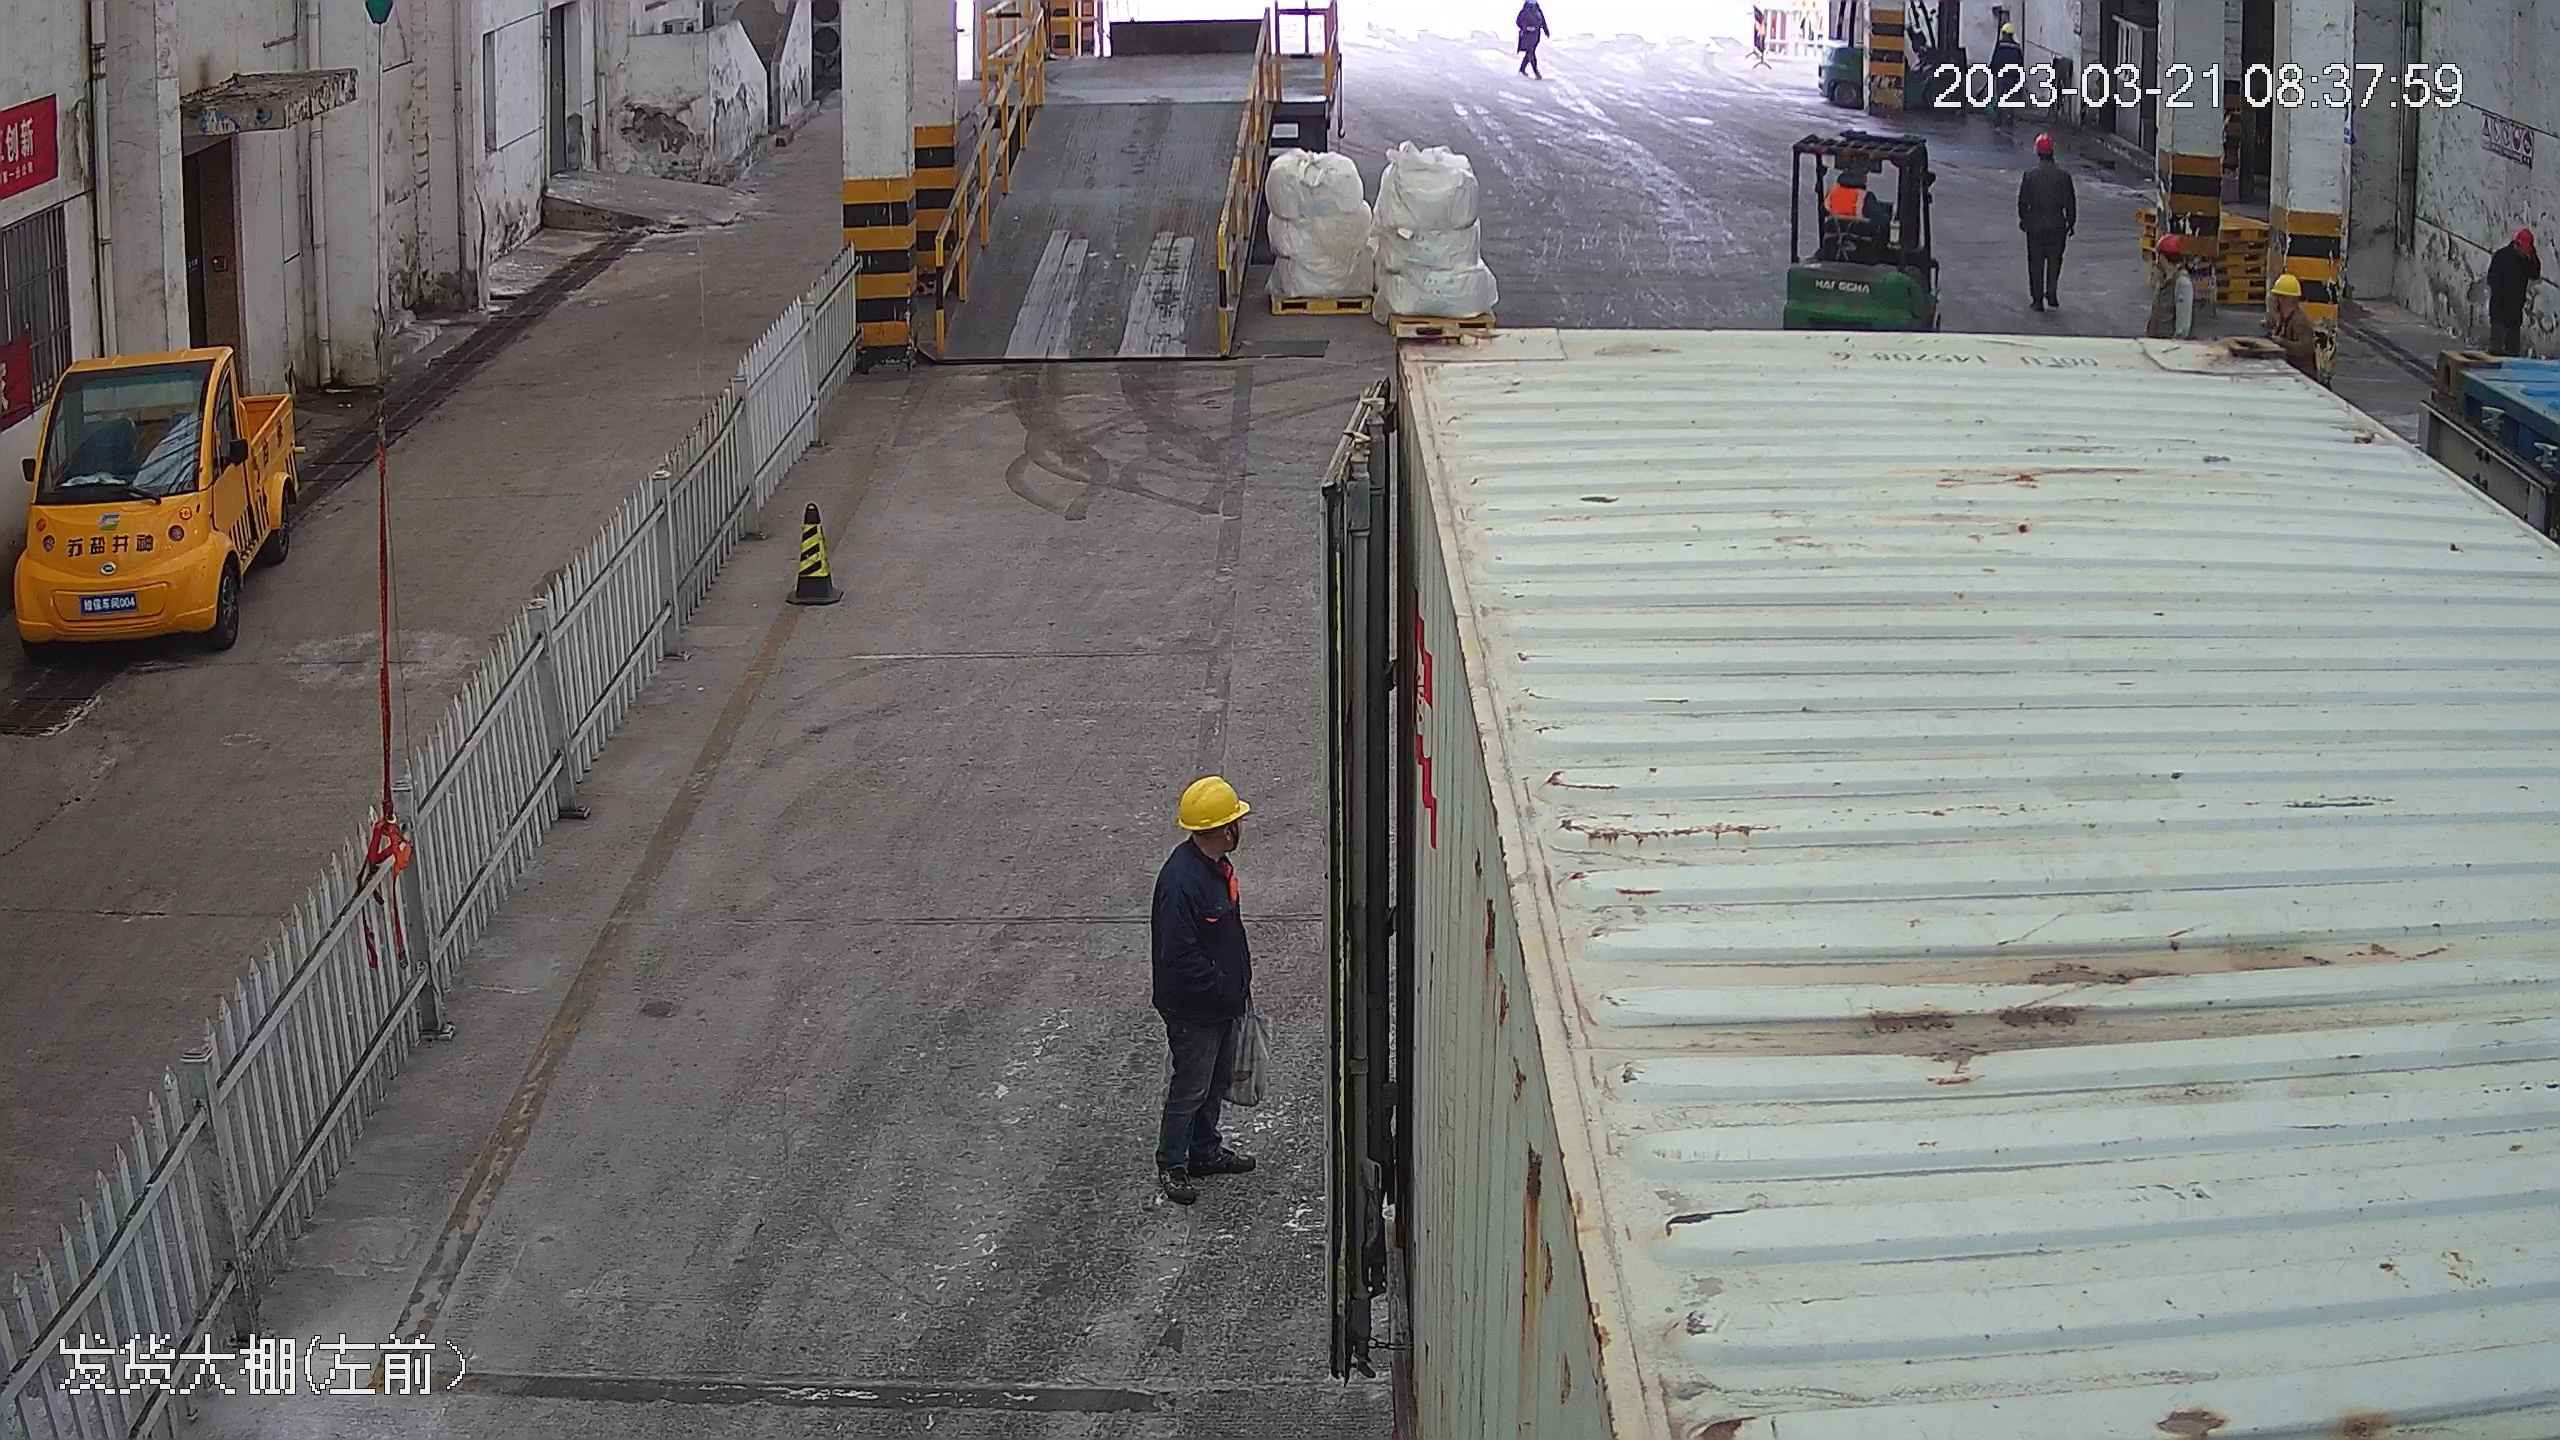head: (1151, 770, 1253, 910), (2265, 268, 2320, 349), (2148, 231, 2199, 314), (2020, 132, 2073, 188), (2491, 223, 2540, 272)
helmet: (1175, 771, 1252, 830), (2268, 269, 2305, 296), (2155, 234, 2188, 259), (2503, 225, 2533, 249), (2034, 131, 2060, 152)
people: (1143, 769, 1265, 1204), (2012, 130, 2080, 318), (2480, 219, 2545, 361), (1515, 1, 1552, 75)
truck: (1290, 274, 2560, 1440)
